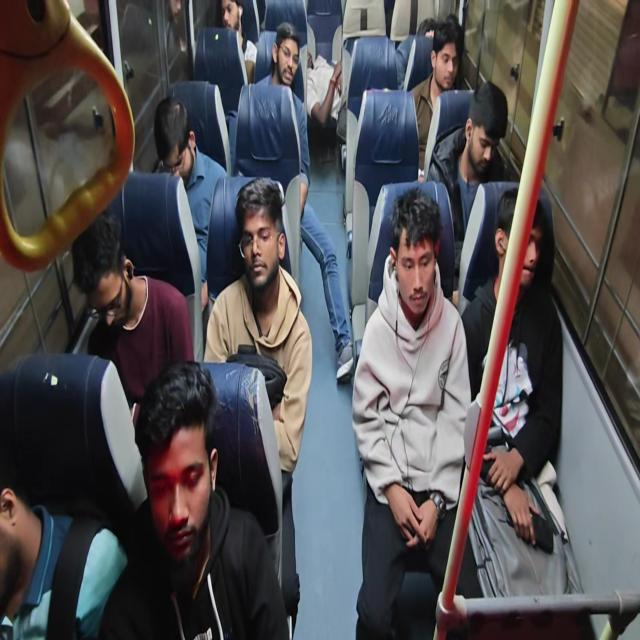person: (0, 438, 102, 634), (135, 425, 223, 640), (80, 210, 178, 402), (480, 174, 546, 343), (390, 218, 453, 391), (236, 184, 292, 301), (139, 100, 207, 186), (465, 87, 504, 167), (214, 0, 260, 67), (435, 31, 475, 91), (267, 20, 296, 84), (409, 0, 432, 51)
